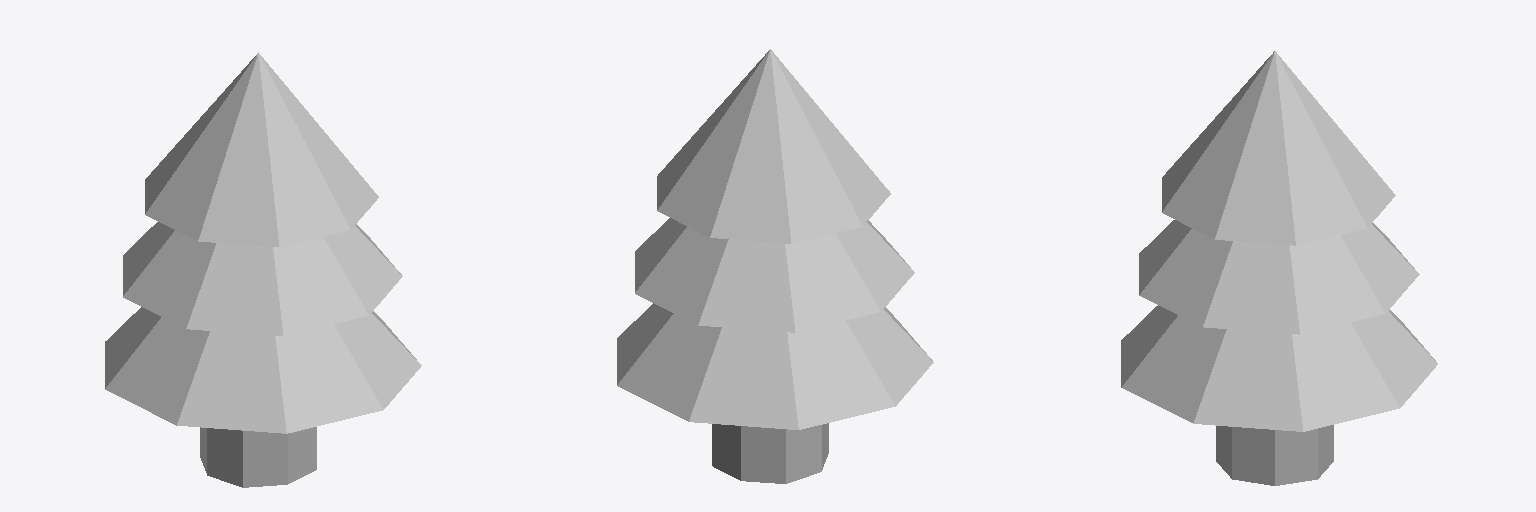
Rendered from sapin.obj.
3 views of the same model, side by side, from view 1: azimuth 30°, elevation 25°; view 2: azimuth 150°, elevation 25°; view 3: azimuth 270°, elevation 25° (orthographic).
Parts seen in each view (by area): view 1: Cone.006, Cone.008, Cone.007, Sapin; view 2: Cone.006, Cone.008, Cone.007, Sapin; view 3: Cone.006, Cone.008, Cone.007, Sapin.
Boxes of the visible parts, box(x1,y1,x2,y2) form: Cone.006: box(105, 307, 421, 433); Cone.008: box(145, 52, 378, 247); Cone.007: box(123, 222, 402, 335); Sapin: box(200, 427, 316, 487); Cone.006: box(617, 303, 933, 429); Cone.008: box(657, 49, 890, 243); Cone.007: box(635, 218, 914, 332); Sapin: box(712, 423, 828, 483); Cone.006: box(1121, 305, 1437, 431); Cone.008: box(1162, 51, 1395, 245); Cone.007: box(1139, 220, 1419, 334); Sapin: box(1216, 425, 1333, 485).
Size of the model in its own units: 2.87 by 4.04 by 2.83.